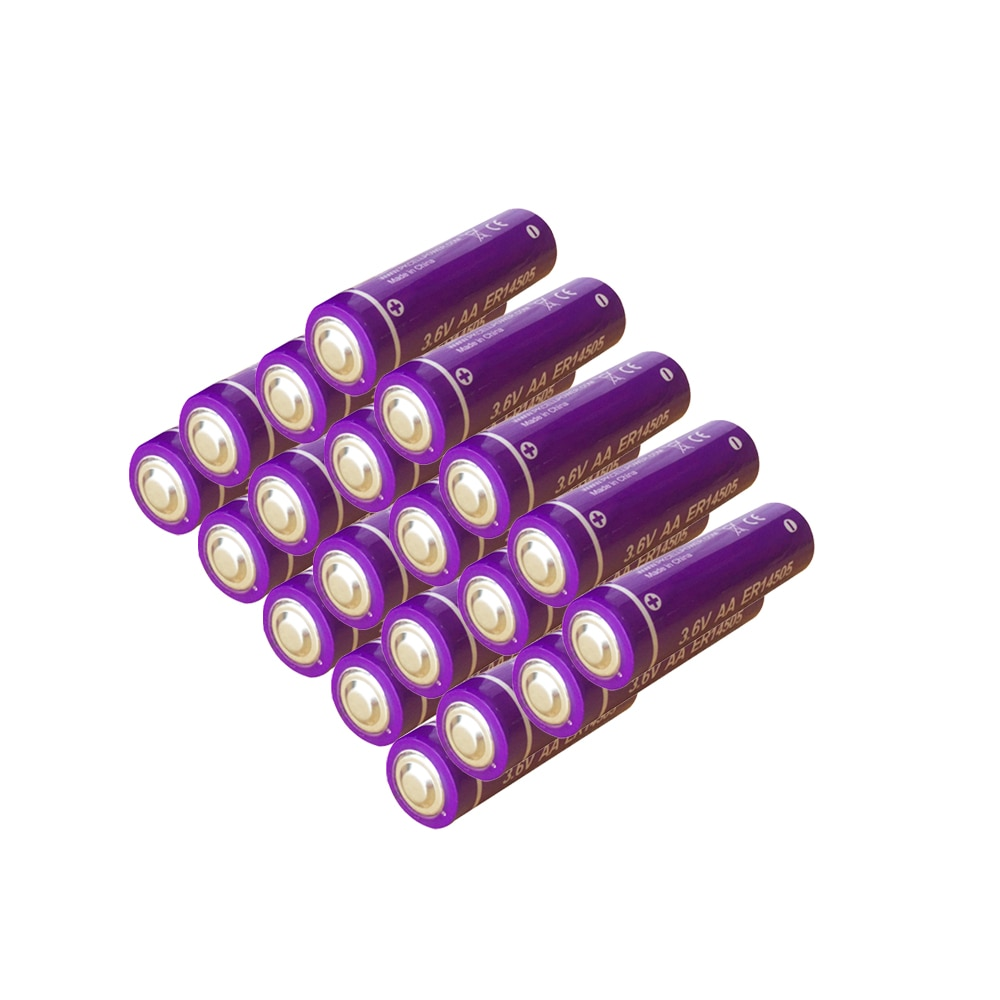Battery: (367, 272, 631, 471), (432, 347, 699, 542), (504, 411, 763, 610), (300, 204, 561, 399), (557, 501, 817, 694)
